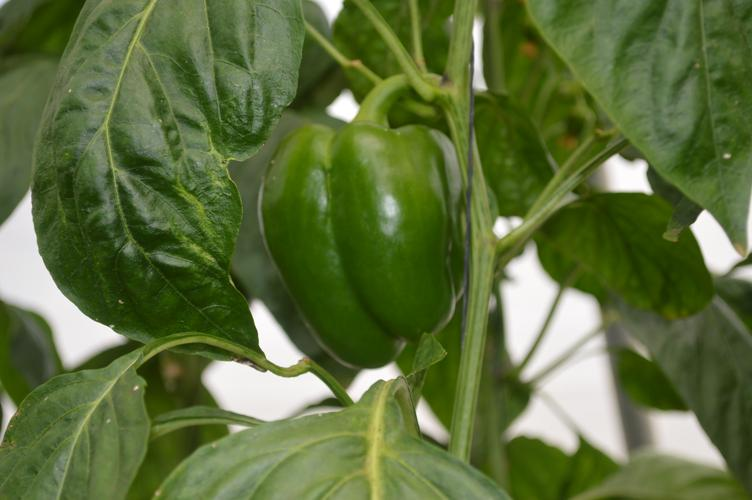BellPepper: (269, 126, 464, 369)
